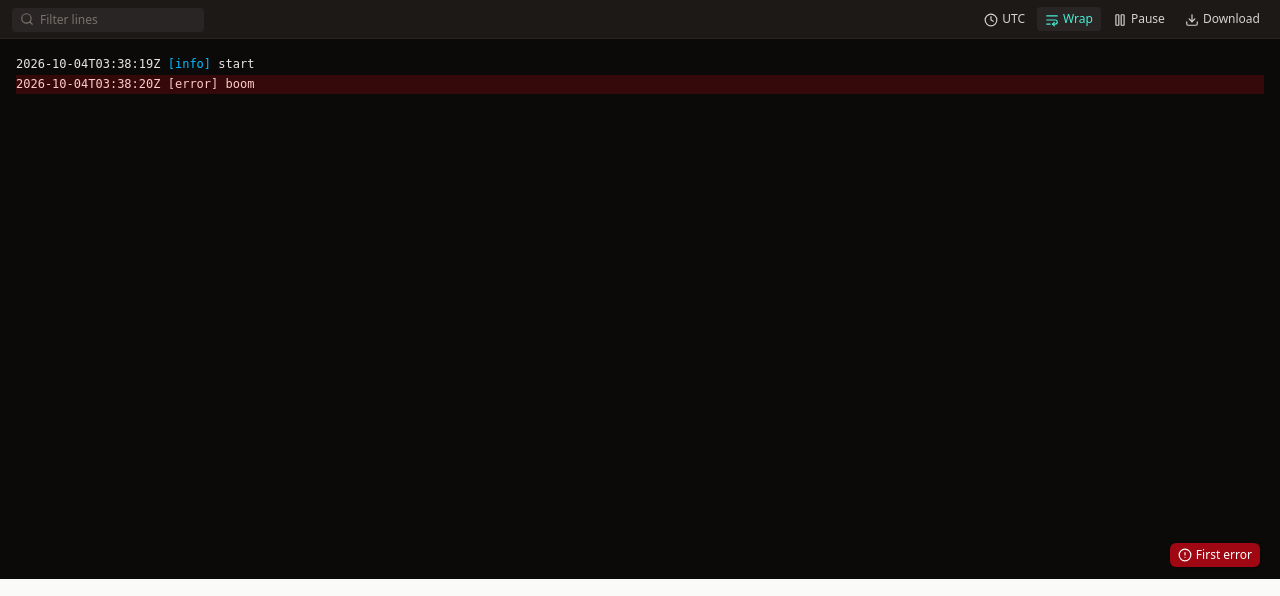
log tools › the toolbar filters what is shown
In the field labelled "Filter lines": [108, 20] box [12, 8, 204, 32], type "boom"
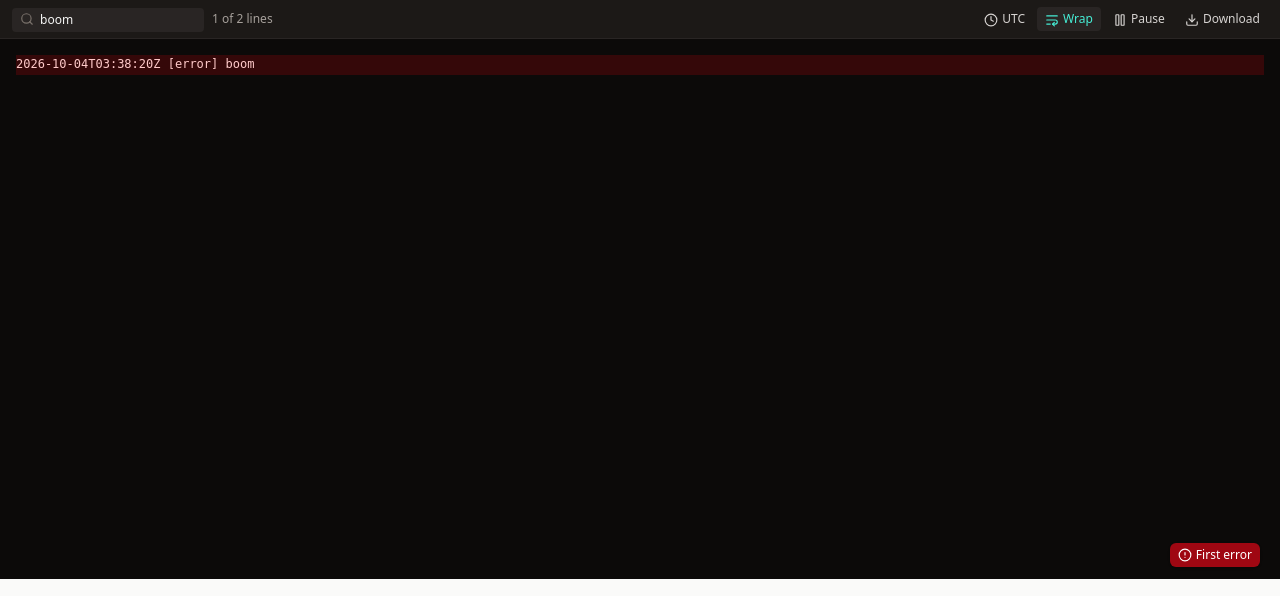
Expected: the text "1 of 2 lines" is shown, [212, 11, 273, 27]
Expected: the element with test id "log-view" no longer shows "start"
Replace the text in the field named "Filter lines" with "nope": [108, 20] box [12, 8, 204, 32]
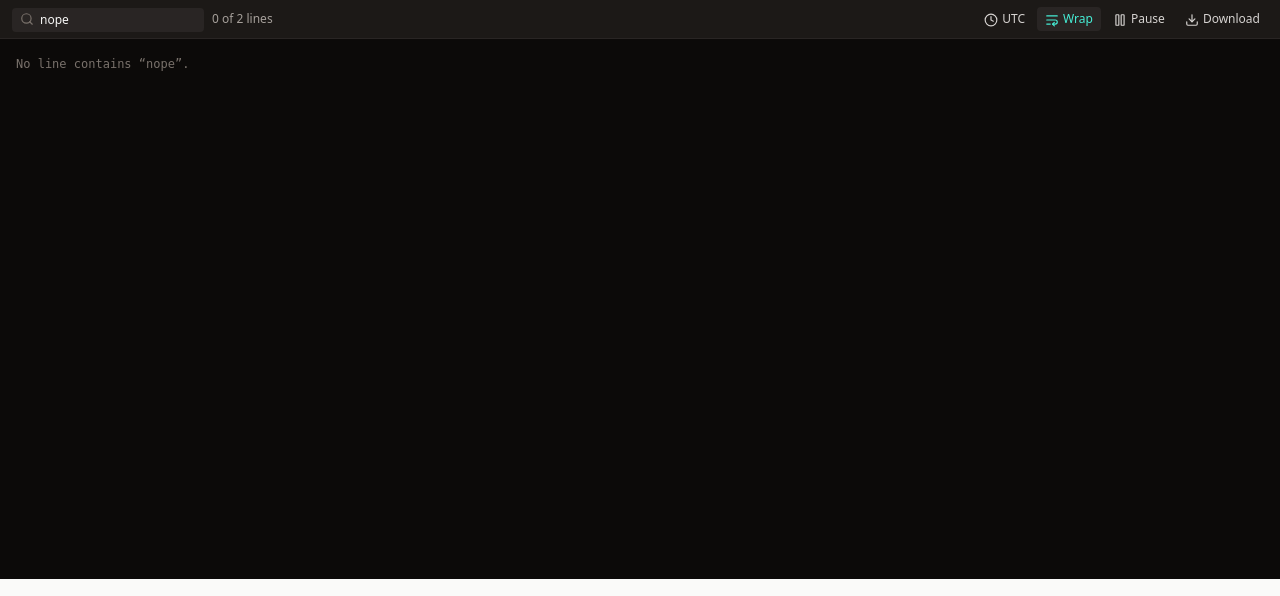
Expected: the element with test id "log-view" reads "No line contains “nope”.", [16, 57, 189, 71]
